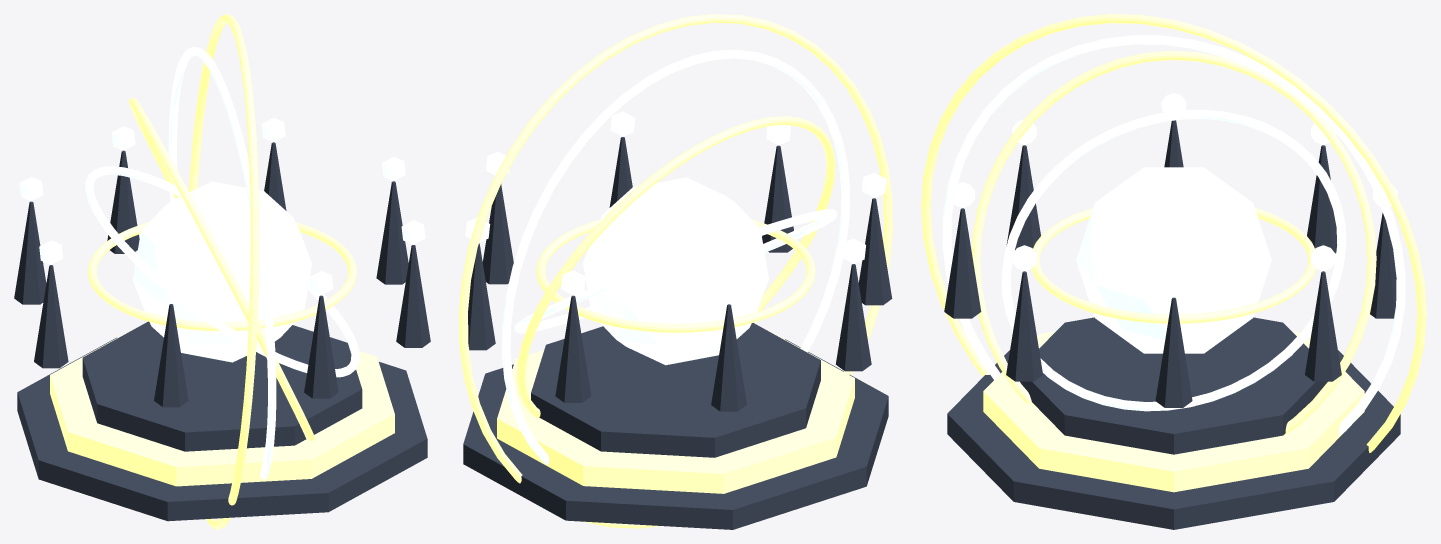
File: gpu-blender-v1.glb
3 views of the same model, side by side, from view 1: azimuth 30°, elevation 25°; view 2: azimuth 150°, elevation 25°; view 3: azimuth 270°, elevation 25° (orthographic). The views are drawn at different scales.
Visible parts, largest first — view 1: Cylinder.002, Cylinder, SovereignCore_agent-capsule-jail, Cylinder.001, Torus.004, Torus.003, Torus.001, Torus.002, Torus, Cone.005, Cone.004, Cone.006 (+5 smaller); view 2: Cylinder.002, SovereignCore_agent-capsule-jail, Cylinder, Cylinder.001, Torus.004, Torus.003, Torus.002, Torus.001, Torus, Cone.004, Cone.003, Cone.002 (+5 smaller); view 3: SovereignCore_agent-capsule-jail, Cylinder.002, Cylinder, Cylinder.001, Torus.004, Torus.003, Torus.002, Torus.001, Torus, Cone.006, Cone.001, Cone.007 (+5 smaller).
Part boxes in pixels (x1,y1,x2,y2): Cylinder.002: (82,321,362,451); Cylinder: (17,337,427,521); SovereignCore_agent-capsule-jail: (133,181,311,362); Cylinder.001: (50,329,394,486); Torus.004: (189,14,259,529); Torus.003: (168,46,276,479); Torus.001: (85,166,359,377); Torus.002: (129,98,314,440); Torus: (88,222,356,331); Cone.005: (154,304,188,407); Cone.004: (34,265,68,368); Cone.006: (304,295,338,398); Cylinder.002: (531,323,820,457); SovereignCore_agent-capsule-jail: (583,177,768,365); Cylinder: (463,339,888,529); Cylinder.001: (497,330,854,493); Torus.004: (459,14,892,528); Torus.003: (501,49,850,464); Torus.002: (516,116,835,418); Torus.001: (514,209,837,333); Torus: (536,219,815,332); Cone.004: (835,264,871,371); Cone.003: (711,304,746,411); Cone.002: (555,295,591,402); SovereignCore_agent-capsule-jail: (1076,167,1271,353); Cylinder.002: (1020,317,1327,454); Cylinder: (947,350,1400,529); Cylinder.001: (983,331,1364,492); Torus.004: (921,14,1426,452); Torus.003: (942,35,1405,435); Torus.002: (972,50,1376,434); Torus.001: (1001,109,1346,411); Torus: (1031,208,1316,323); Cone.006: (944,208,981,318); Cone.001: (1305,271,1341,381); Cone.007: (1006,271,1042,381).
Size of the model in its own units: 4.41 by 5.33 by 4.9.
